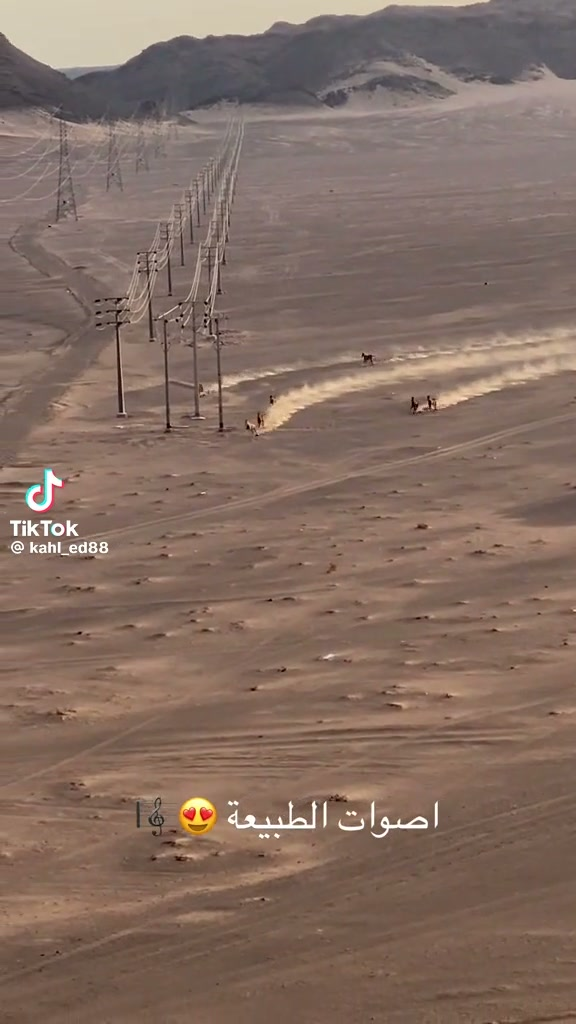animal: (245, 420, 257, 436), (362, 352, 373, 365), (410, 396, 418, 413), (257, 411, 263, 428), (269, 394, 276, 405)
vehicle_track: (0, 220, 108, 467), (92, 464, 375, 540), (99, 466, 373, 535), (0, 698, 193, 792), (107, 467, 373, 535), (0, 892, 182, 983), (0, 919, 149, 983)
